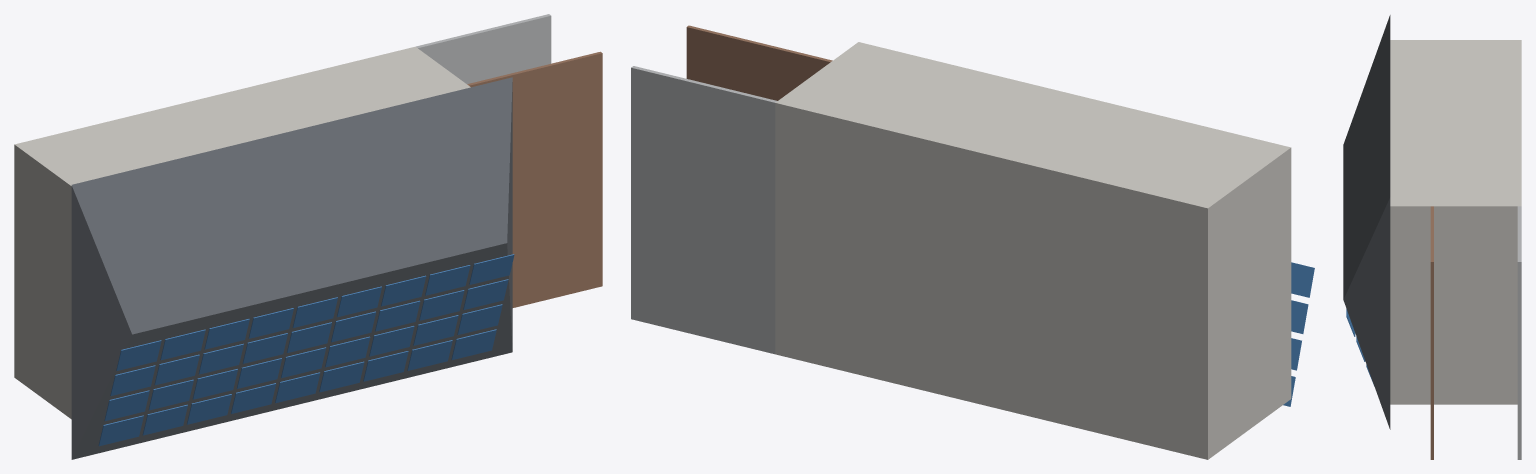
Rendered from generated_0eb7c64455.glb.
The picture shows the model from 3 angles, left to right: view 1: azimuth 30°, elevation 25°; view 2: azimuth 150°, elevation 25°; view 3: azimuth 270°, elevation 25°; orthographic projection. The views are drawn at different scales.
Parts seen in each view (by area): view 1: hip_roof, house_body, front_porch_roof, front_porch_slab, solar_panel_7, solar_panel_8, solar_panel_16, solar_panel_21, solar_panel_27, solar_panel_30, solar_panel_33, solar_panel_35 (+28 smaller); view 2: house_body, front_porch_slab, front_porch_roof, solar_panel_27; view 3: house_body, hip_roof, front_porch_slab, front_porch_roof.
Boxes of the visible parts, <box> form: hip_roof: <box>71,77,512,459</box>; house_body: <box>14,46,470,419</box>; front_porch_roof: <box>467,51,602,307</box>; front_porch_slab: <box>416,14,551,83</box>; solar_panel_7: <box>407,340,452,370</box>; solar_panel_8: <box>451,329,496,359</box>; solar_panel_16: <box>413,315,458,345</box>; solar_panel_21: <box>242,333,287,363</box>; solar_panel_27: <box>116,340,161,370</box>; solar_panel_30: <box>248,308,293,338</box>; solar_panel_33: <box>381,275,426,306</box>; solar_panel_35: <box>469,254,514,284</box>; house_body: <box>775,42,1291,459</box>; front_porch_slab: <box>631,66,777,354</box>; front_porch_roof: <box>686,25,832,100</box>; solar_panel_27: <box>1291,262,1314,297</box>; house_body: <box>1390,40,1521,404</box>; hip_roof: <box>1343,15,1390,429</box>; front_porch_slab: <box>1517,206,1521,459</box>; front_porch_roof: <box>1430,206,1433,459</box>.
Bounding box in the file's own units: 24.9 × 11.8 × 8.15.
